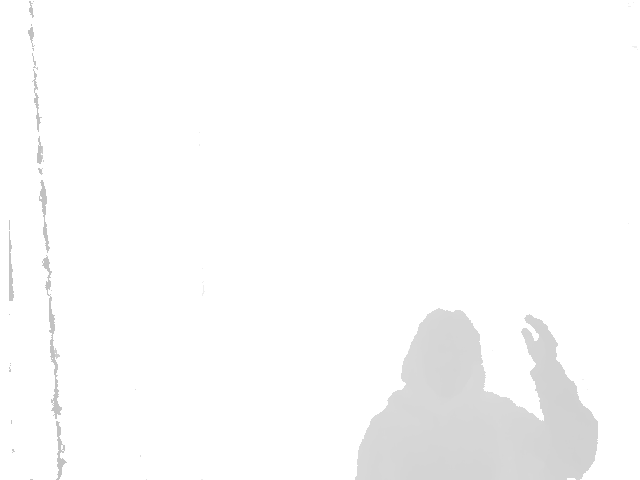head: (400, 310, 489, 402)
person: (356, 309, 600, 480)
